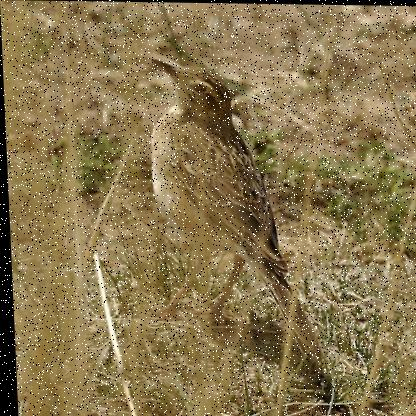Burung: (142, 55, 318, 358)
